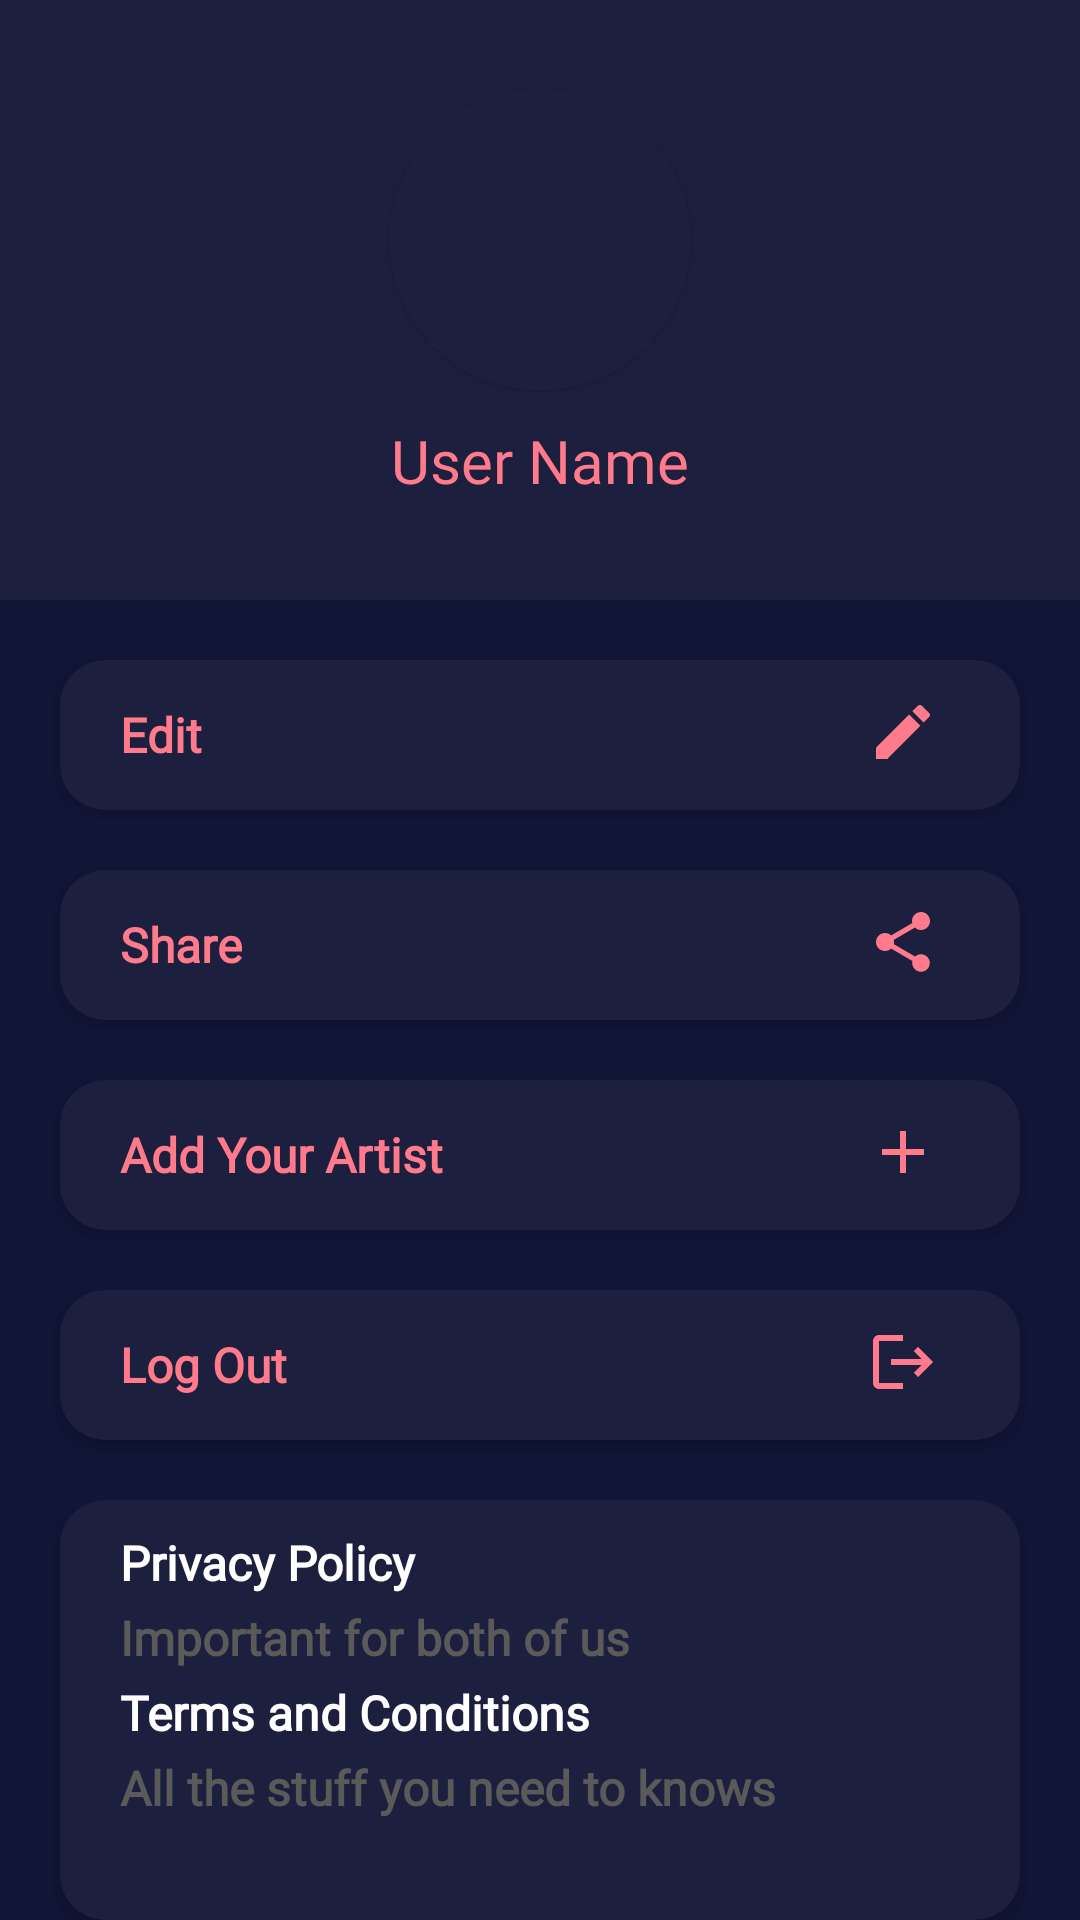

Screen size 1080w x 1920h. Icon name, then its box in pixels as (x1, y1, x2, y2):
add: (882, 1131, 924, 1173)
edit: (876, 705, 930, 759)
share: (876, 912, 930, 972)
